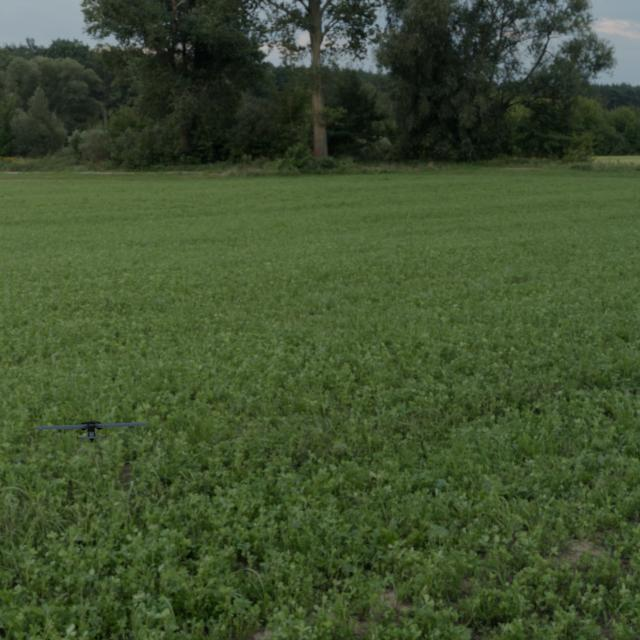Airaplan: (35, 418, 148, 443)
